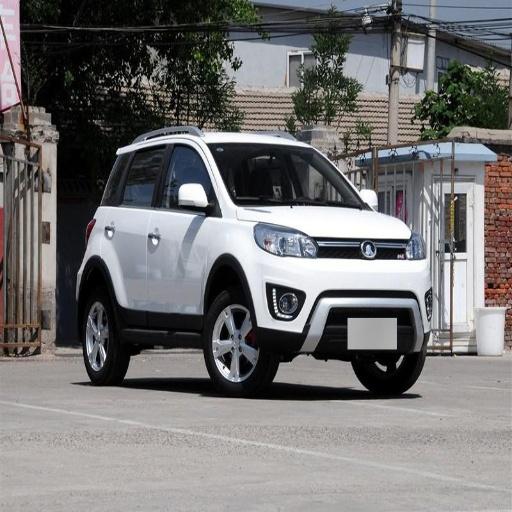front_bumper: (250, 238, 438, 354)
front_right_door: (149, 140, 216, 327)
front_right_light: (255, 226, 318, 257)
hood: (238, 207, 414, 238)
